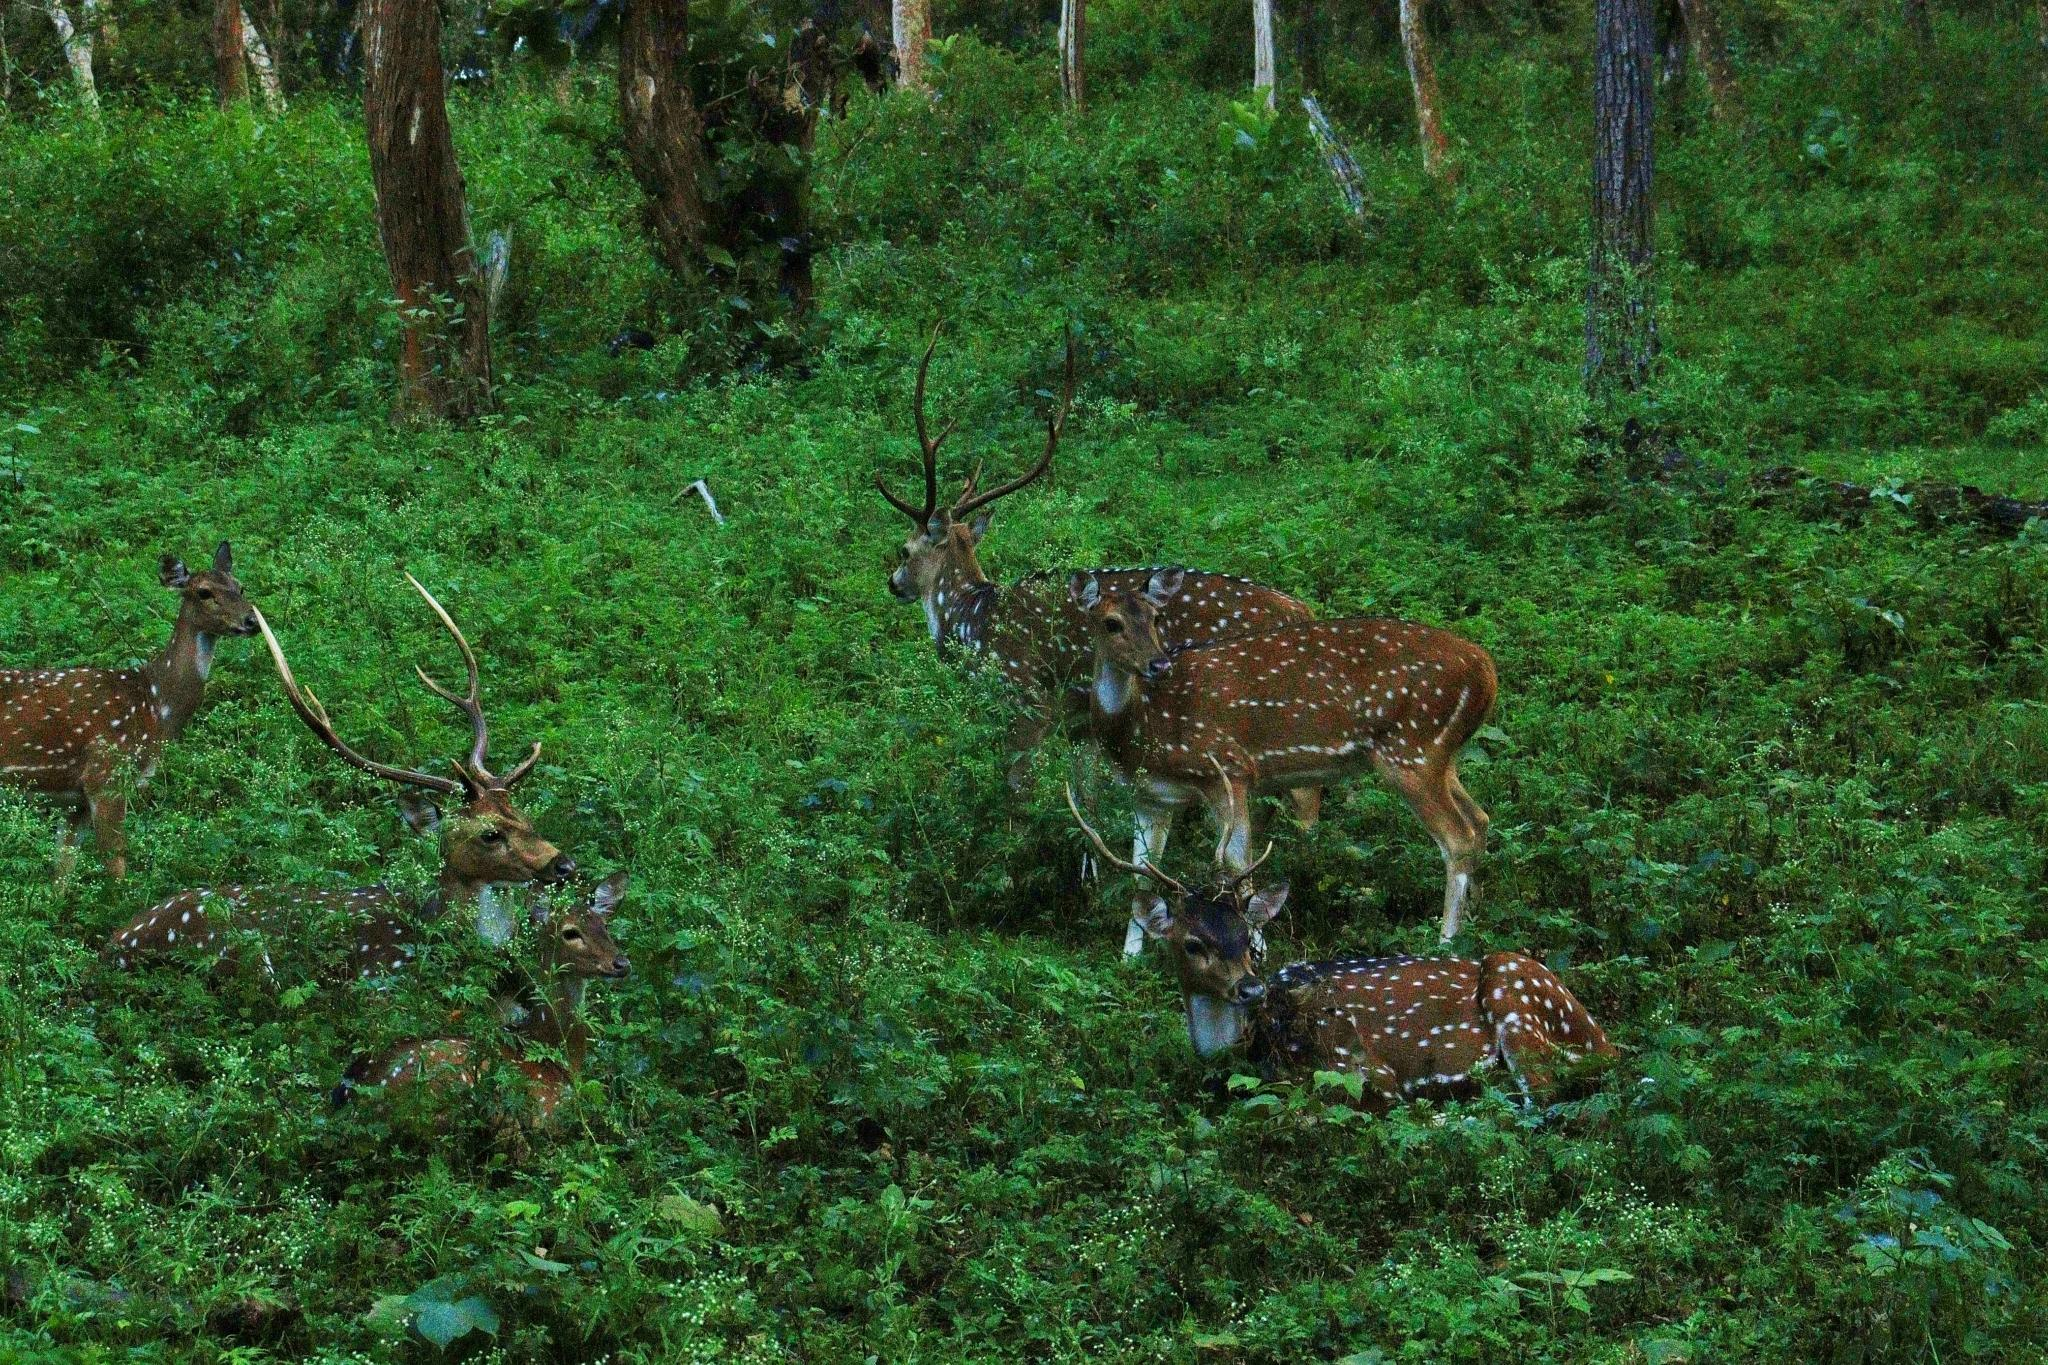Deer: (107, 583, 574, 977), (1067, 564, 1495, 940), (1096, 826, 1614, 1106), (872, 340, 1090, 753), (0, 542, 257, 876), (332, 871, 629, 1118)
